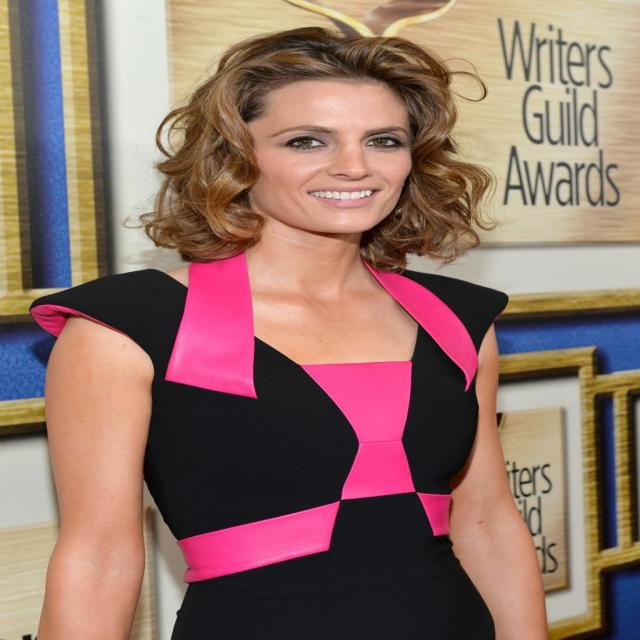Face: (231, 71, 424, 237)
